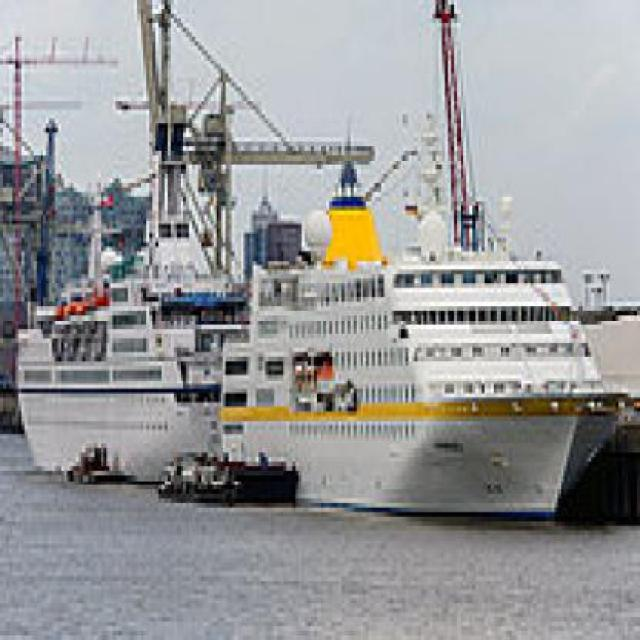cruise: (214, 211, 623, 540)
